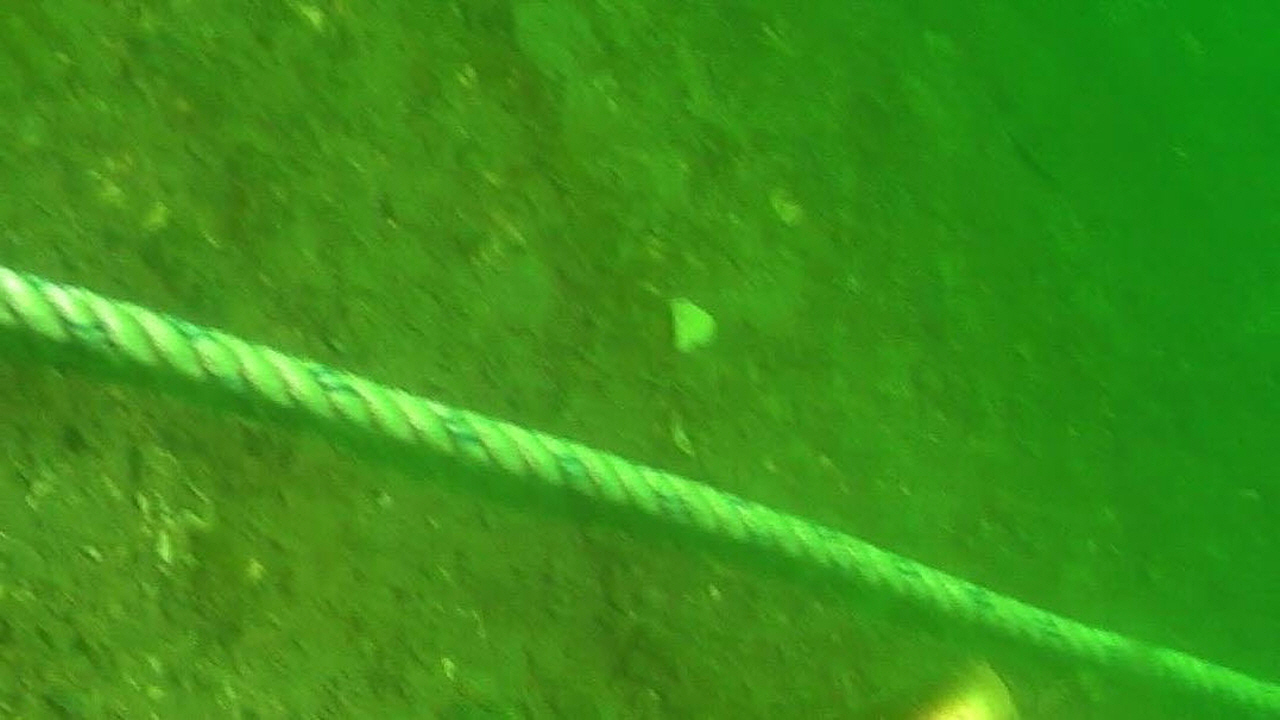rope: (0, 266, 1280, 716)
